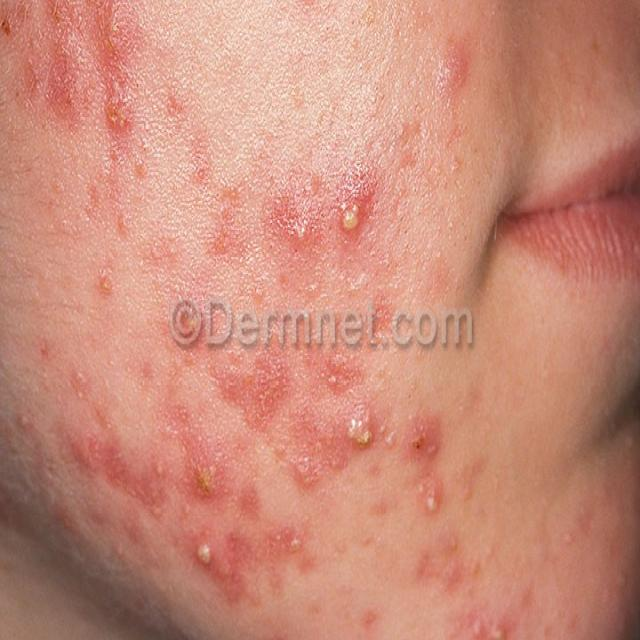acne: (29, 313, 538, 640), (163, 154, 407, 314), (0, 0, 172, 218), (428, 22, 487, 116), (75, 262, 139, 326), (107, 213, 165, 252)
